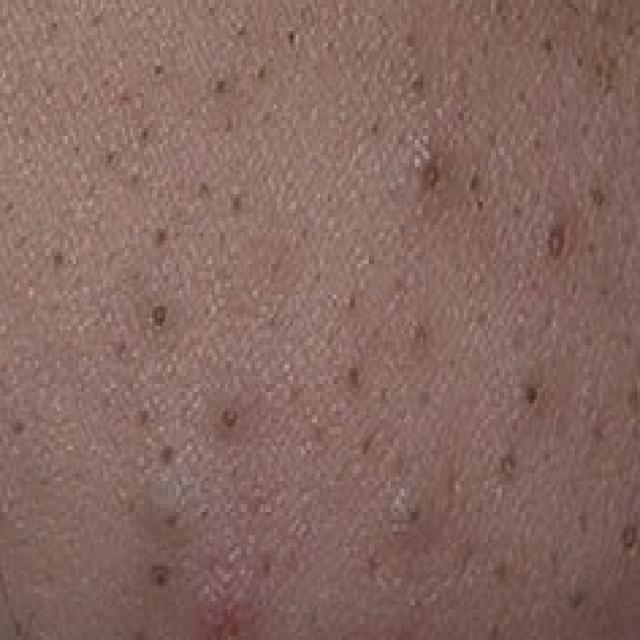blackhead: (593, 54, 619, 94), (151, 562, 172, 594), (445, 466, 464, 501), (620, 520, 637, 554), (499, 451, 518, 481), (376, 10, 390, 48), (409, 322, 428, 349), (364, 548, 382, 574), (625, 377, 640, 408), (548, 228, 564, 257), (152, 300, 168, 327), (494, 2, 509, 30), (222, 405, 239, 429), (490, 560, 507, 584), (424, 161, 439, 188), (10, 414, 26, 439), (562, 1, 584, 18), (10, 233, 30, 251), (540, 36, 556, 58), (347, 364, 361, 389), (468, 170, 482, 194), (259, 553, 273, 575), (408, 506, 422, 528), (524, 386, 538, 408), (629, 416, 640, 444), (410, 75, 426, 94), (102, 388, 114, 413), (155, 227, 168, 250), (577, 510, 588, 537), (486, 616, 498, 640), (53, 247, 66, 269), (117, 336, 130, 358), (161, 444, 174, 465), (570, 592, 584, 611), (486, 126, 498, 148), (117, 89, 132, 106), (91, 8, 105, 26), (230, 192, 242, 213), (592, 188, 606, 206), (531, 133, 541, 158), (378, 383, 389, 405), (138, 406, 150, 426), (164, 514, 180, 529), (404, 30, 416, 50), (104, 149, 118, 166), (214, 77, 226, 96), (590, 426, 604, 442), (255, 62, 266, 82), (347, 290, 357, 312), (478, 38, 489, 58), (616, 338, 625, 362), (517, 88, 529, 105), (129, 168, 139, 188), (360, 438, 370, 458), (581, 120, 591, 140), (570, 278, 579, 300), (475, 310, 486, 328), (365, 253, 378, 268), (456, 108, 468, 124), (511, 204, 523, 220), (261, 108, 271, 127), (583, 332, 593, 351), (4, 197, 14, 216), (153, 62, 164, 79), (599, 284, 610, 301), (49, 16, 59, 34), (299, 224, 309, 242), (624, 22, 634, 40), (44, 82, 53, 102), (476, 196, 485, 215), (530, 188, 539, 207), (286, 30, 296, 47), (78, 89, 88, 106), (235, 23, 246, 38), (370, 120, 380, 136), (542, 450, 552, 466), (199, 181, 210, 195), (576, 53, 585, 70), (625, 332, 634, 349), (326, 40, 336, 55), (140, 126, 149, 142), (72, 141, 81, 157), (200, 505, 208, 523), (225, 115, 232, 135), (413, 595, 423, 609), (22, 124, 32, 138), (560, 95, 568, 112), (514, 11, 525, 23), (370, 326, 380, 339), (587, 240, 595, 256), (548, 551, 556, 567), (126, 498, 133, 513), (602, 7, 612, 17), (304, 445, 311, 458), (208, 5, 215, 18), (395, 135, 402, 147), (462, 224, 468, 236), (418, 136, 426, 145), (464, 198, 470, 209), (300, 8, 306, 18)
